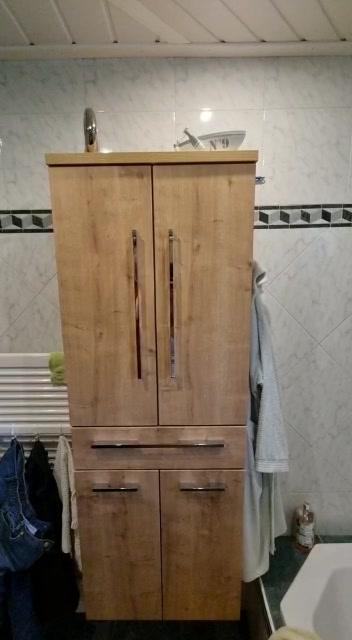cabinet_door: (51, 161, 152, 425), (159, 161, 251, 428), (77, 476, 157, 616), (163, 471, 239, 617), (74, 427, 249, 469)
handle: (130, 216, 149, 400), (166, 195, 181, 407), (88, 477, 143, 498), (179, 477, 226, 499), (177, 441, 231, 460), (91, 438, 134, 460)
